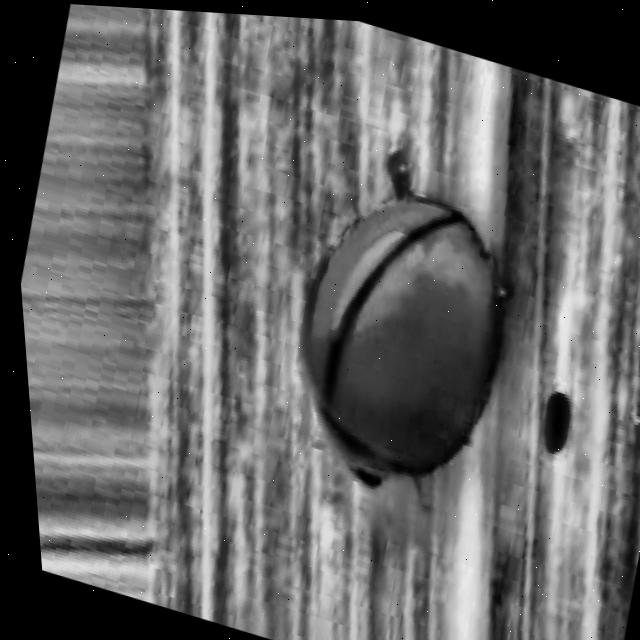Ladybug: (243, 106, 571, 545)
